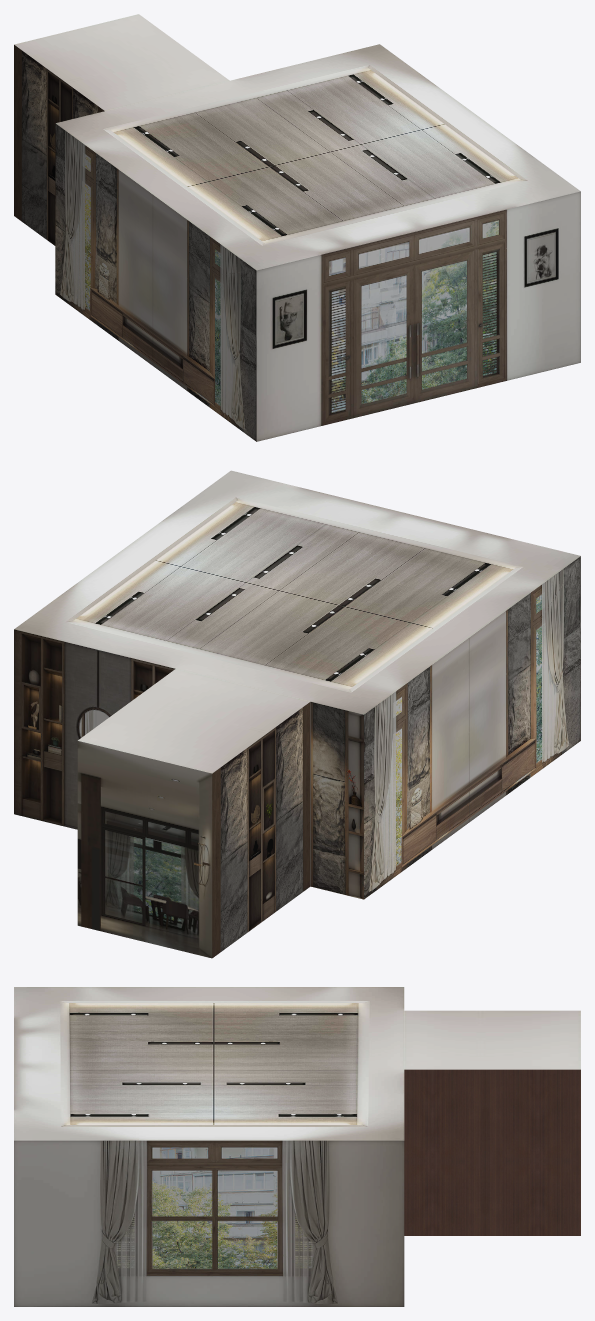
Rendered from Serif_TV_Room.glb.
3 views of the same model, one above another, from view 1: azimuth 30°, elevation 25°; view 2: azimuth 150°, elevation 25°; view 3: azimuth 270°, elevation 25° (orthographic). The views are drawn at different scales.
Parts seen in each view (by area): view 1: polySurface3; view 2: polySurface3; view 3: polySurface3.
Part boxes in pixels (left/top/right/bottom): polySurface3: left=14, top=14, right=580, bottom=441; polySurface3: left=14, top=470, right=580, bottom=958; polySurface3: left=14, top=987, right=580, bottom=1306.
Bounding box in the file's own units: 6.29 × 3.2 × 9.82.
Materials: 3 (3 with a texture image).
